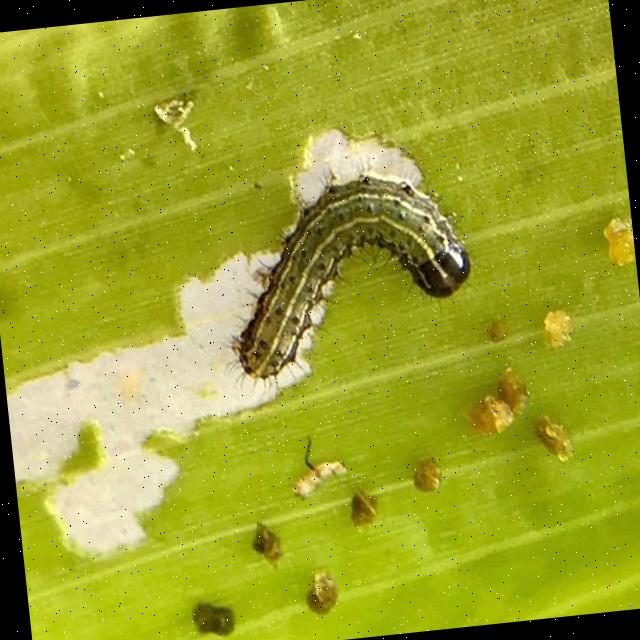worm: (208, 161, 483, 397)
